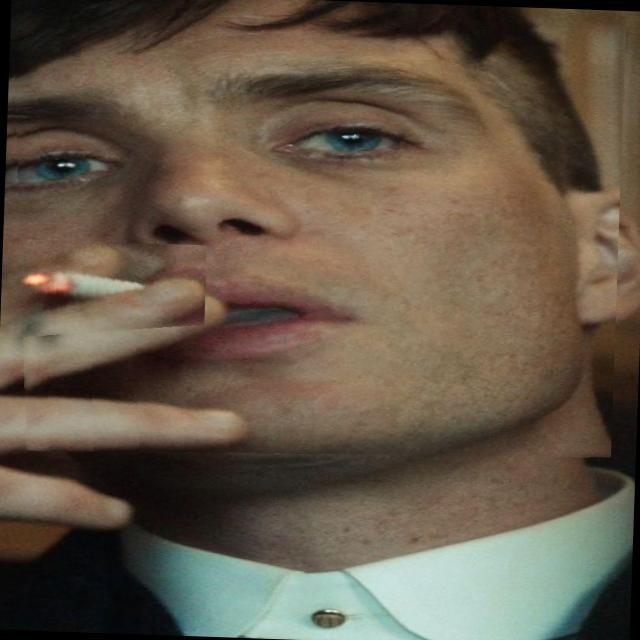cigarette: (0, 238, 206, 345)
